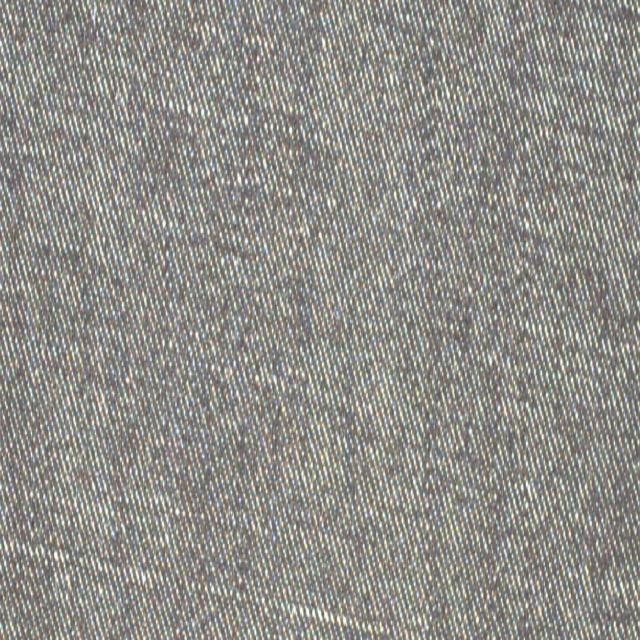Line: (0, 527, 443, 640)
